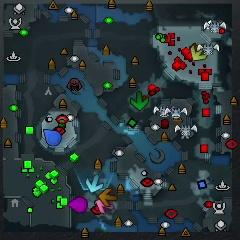p1: (43, 129, 61, 146)
p3: (68, 198, 88, 213)
x1: (96, 198, 115, 214)
x2: (190, 45, 207, 61)
x3: (86, 175, 103, 192)
x4: (131, 91, 149, 110)
x5: (99, 188, 117, 206)
